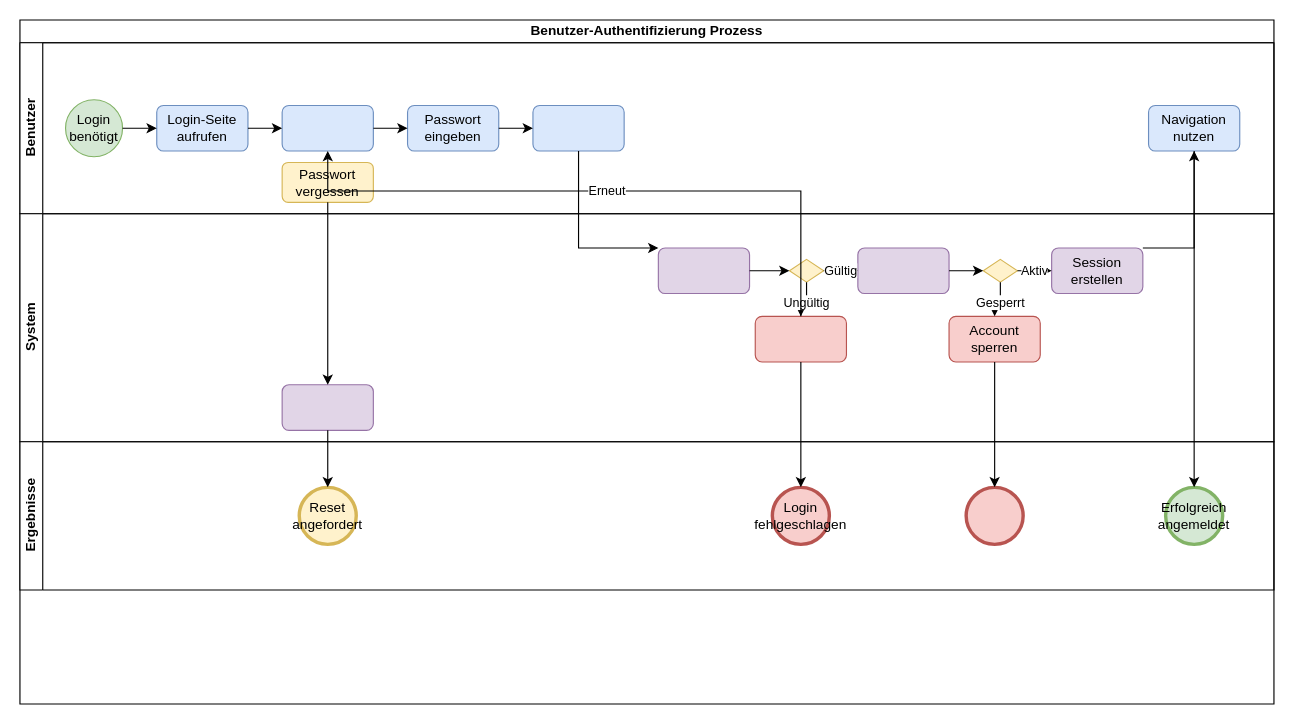
Some shapes in this 1294 by 724 pixel diagram are drawn without their labels. The shapes that lost their labels are listed below. From the top down, each one's centre as x and y in pixels, then its label:
At point (327, 127): "E-Mail eingeben".
At point (578, 127): "Anmelden klicken".
At point (703, 270): "Daten validieren".
At point (903, 270): "Account-Status prüfen".
At point (800, 338): "Fehlermeldung".
At point (327, 407): "Reset-Link senden".
At point (994, 515): "Account gesperrt".
